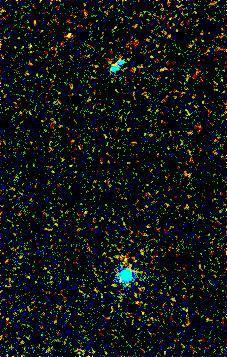star: (54, 18, 84, 48)
